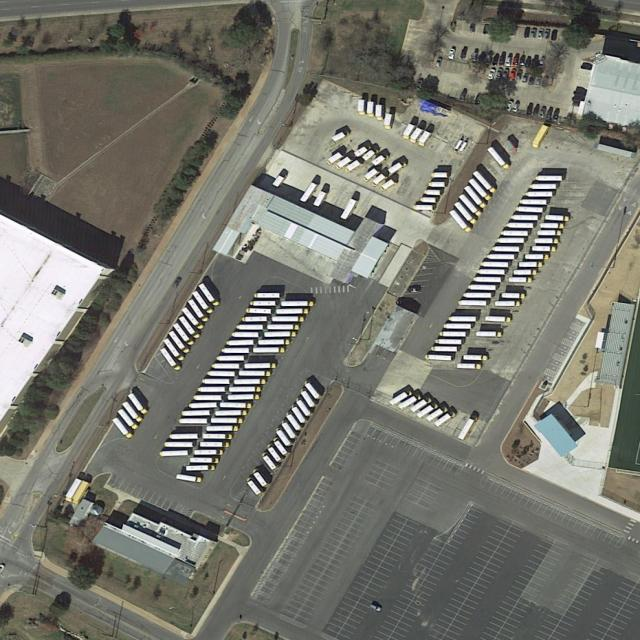large-vehicle: (448, 209, 472, 234), (487, 146, 511, 170), (454, 201, 477, 226), (473, 171, 497, 194), (469, 178, 492, 202), (464, 185, 487, 209), (459, 194, 483, 217), (181, 307, 204, 331), (192, 291, 214, 316), (168, 330, 190, 355), (187, 298, 208, 324), (337, 198, 357, 225), (179, 316, 201, 340), (173, 323, 195, 347), (163, 338, 185, 362), (159, 347, 181, 371), (297, 182, 318, 207), (458, 414, 477, 441), (199, 283, 219, 308), (122, 401, 144, 423), (113, 417, 133, 440), (531, 124, 549, 149), (118, 409, 139, 430), (128, 393, 148, 415), (398, 392, 421, 411), (416, 402, 439, 420), (410, 396, 432, 414), (426, 405, 448, 423), (434, 410, 456, 428), (389, 389, 412, 406), (274, 427, 292, 447), (280, 419, 297, 440), (245, 477, 263, 496), (265, 444, 283, 463), (311, 191, 327, 212), (251, 469, 268, 488), (261, 452, 278, 471), (295, 398, 312, 417), (285, 412, 302, 431), (290, 404, 306, 424), (272, 438, 289, 456), (304, 381, 321, 399), (300, 389, 316, 408), (276, 307, 309, 316), (159, 449, 189, 458), (228, 393, 261, 401), (245, 362, 278, 370), (215, 409, 247, 417), (253, 347, 287, 354), (182, 409, 211, 417), (186, 464, 215, 472), (211, 417, 244, 424), (234, 378, 267, 385), (264, 331, 297, 338), (258, 339, 291, 346), (177, 474, 202, 483), (207, 425, 239, 432), (492, 245, 520, 253), (230, 386, 261, 393), (203, 433, 233, 440), (164, 441, 194, 448), (170, 433, 199, 440), (188, 402, 217, 409), (195, 449, 224, 456), (190, 457, 219, 464), (216, 355, 245, 362), (467, 284, 496, 291), (457, 362, 482, 370), (281, 301, 314, 307), (272, 316, 305, 322), (267, 324, 300, 330), (239, 371, 272, 377), (197, 386, 225, 393), (226, 339, 254, 346), (212, 363, 240, 370), (481, 261, 509, 268), (487, 253, 515, 260), (507, 222, 535, 229), (511, 214, 539, 221), (220, 402, 252, 408), (425, 354, 452, 361), (498, 237, 525, 244), (529, 183, 556, 190), (520, 199, 547, 206), (516, 206, 543, 213), (254, 292, 280, 299), (250, 300, 276, 307), (179, 418, 208, 424), (221, 348, 250, 354), (443, 323, 472, 329), (463, 292, 492, 298), (500, 231, 529, 237), (439, 331, 467, 337), (194, 395, 222, 401), (449, 316, 477, 322), (538, 230, 562, 237), (519, 261, 543, 268), (477, 269, 505, 275), (514, 269, 538, 276), (474, 277, 502, 283), (459, 300, 487, 306), (525, 191, 553, 197), (435, 339, 462, 345), (431, 346, 458, 352), (236, 324, 263, 330), (232, 332, 259, 338), (208, 371, 235, 377), (502, 292, 525, 299), (246, 308, 272, 314), (476, 332, 502, 338), (495, 301, 521, 307), (536, 175, 562, 181), (242, 316, 267, 322), (200, 442, 230, 447), (525, 254, 550, 260), (486, 316, 511, 322), (463, 354, 487, 360), (541, 222, 565, 228), (536, 238, 560, 244), (509, 277, 533, 283), (546, 215, 570, 221), (202, 379, 230, 384), (533, 245, 556, 251), (414, 204, 433, 210)
small-vehicle: (352, 142, 374, 159), (386, 159, 408, 175), (329, 128, 351, 144), (371, 150, 391, 167), (361, 146, 380, 163), (408, 126, 425, 144), (325, 150, 344, 166), (362, 166, 380, 182), (335, 155, 353, 171), (417, 130, 433, 148), (401, 122, 417, 140), (371, 172, 388, 188), (344, 159, 361, 174), (379, 179, 396, 193), (383, 113, 394, 130), (366, 100, 376, 118), (171, 276, 184, 289), (376, 103, 385, 121), (358, 99, 367, 116), (423, 189, 442, 197), (419, 196, 437, 204), (430, 171, 448, 179), (428, 181, 447, 188), (458, 90, 468, 103), (474, 93, 484, 106), (534, 75, 544, 88), (504, 100, 514, 112), (541, 75, 550, 88), (509, 68, 518, 81), (511, 55, 520, 68), (544, 109, 553, 121), (551, 110, 560, 122), (515, 69, 524, 81), (487, 68, 496, 80), (369, 604, 382, 612), (523, 26, 531, 39), (522, 71, 530, 84), (511, 102, 520, 113), (485, 53, 494, 64), (407, 286, 421, 293), (448, 48, 456, 60), (530, 27, 538, 39), (528, 74, 536, 86), (502, 68, 510, 80), (538, 58, 547, 68), (482, 24, 490, 35), (532, 105, 540, 116), (435, 57, 443, 68), (539, 108, 547, 119), (538, 28, 546, 39), (417, 77, 424, 89), (492, 55, 499, 67), (496, 68, 503, 80), (519, 55, 526, 67), (460, 49, 468, 59), (471, 52, 479, 62), (543, 29, 551, 39), (526, 106, 533, 116), (551, 30, 558, 40), (499, 56, 505, 67), (506, 56, 512, 67), (470, 23, 476, 33), (525, 58, 531, 68)
